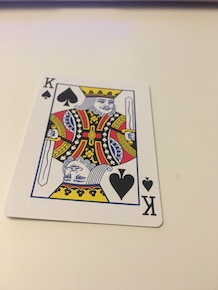KingOfSpades: (2, 67, 166, 231)
